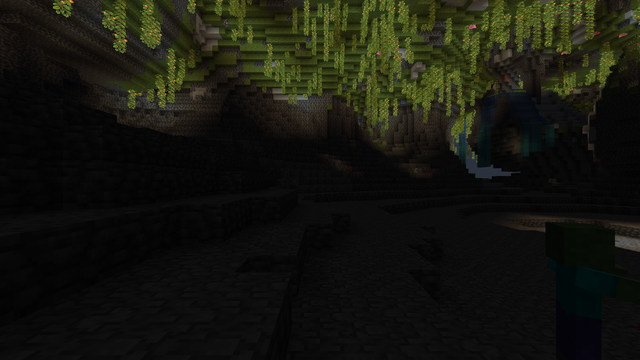zombies: (536, 225, 624, 356)
